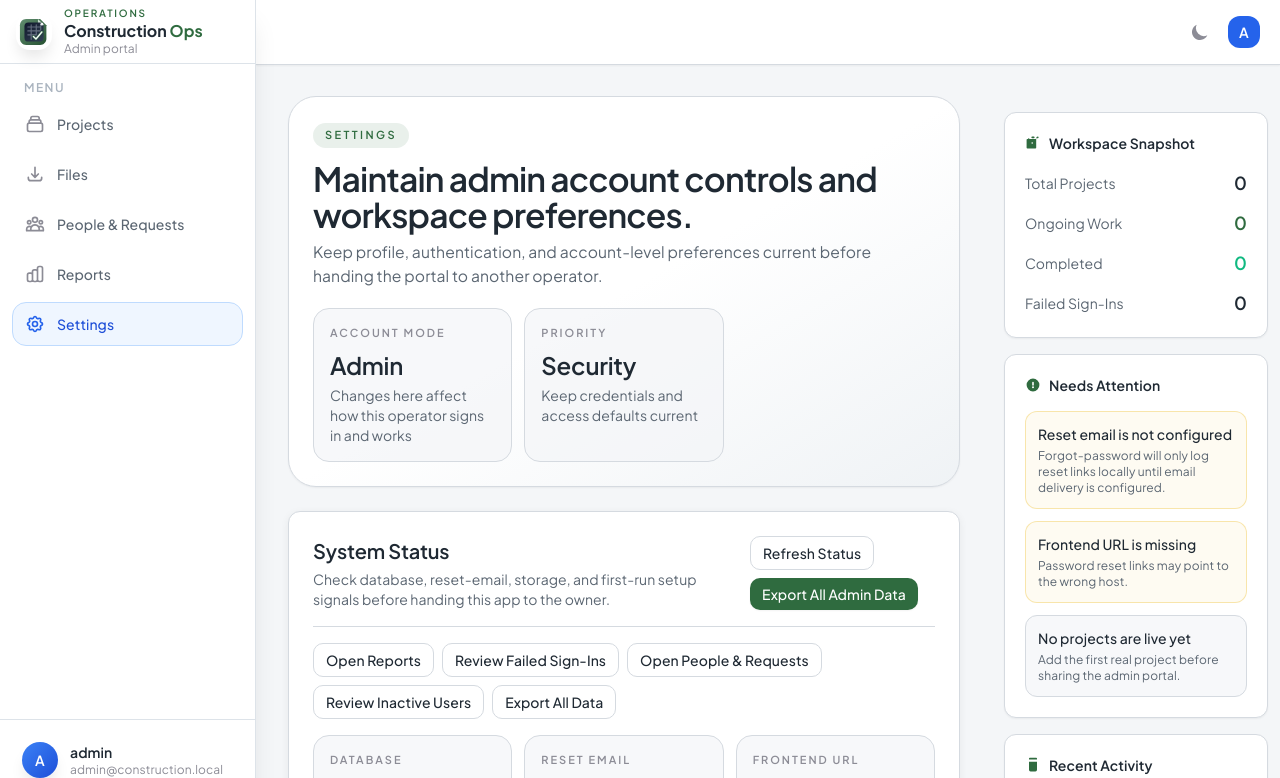
Test: AdminDashboard route shell › settings route deep-links to inactive users
The width and height of the screenshot is (1280, 778).
Expected: the heading "System Status" is shown, [313,538,449,563]
Click the button "Review Inactive Users" at {"x": 399, "y": 702}, box [313,685,484,719]
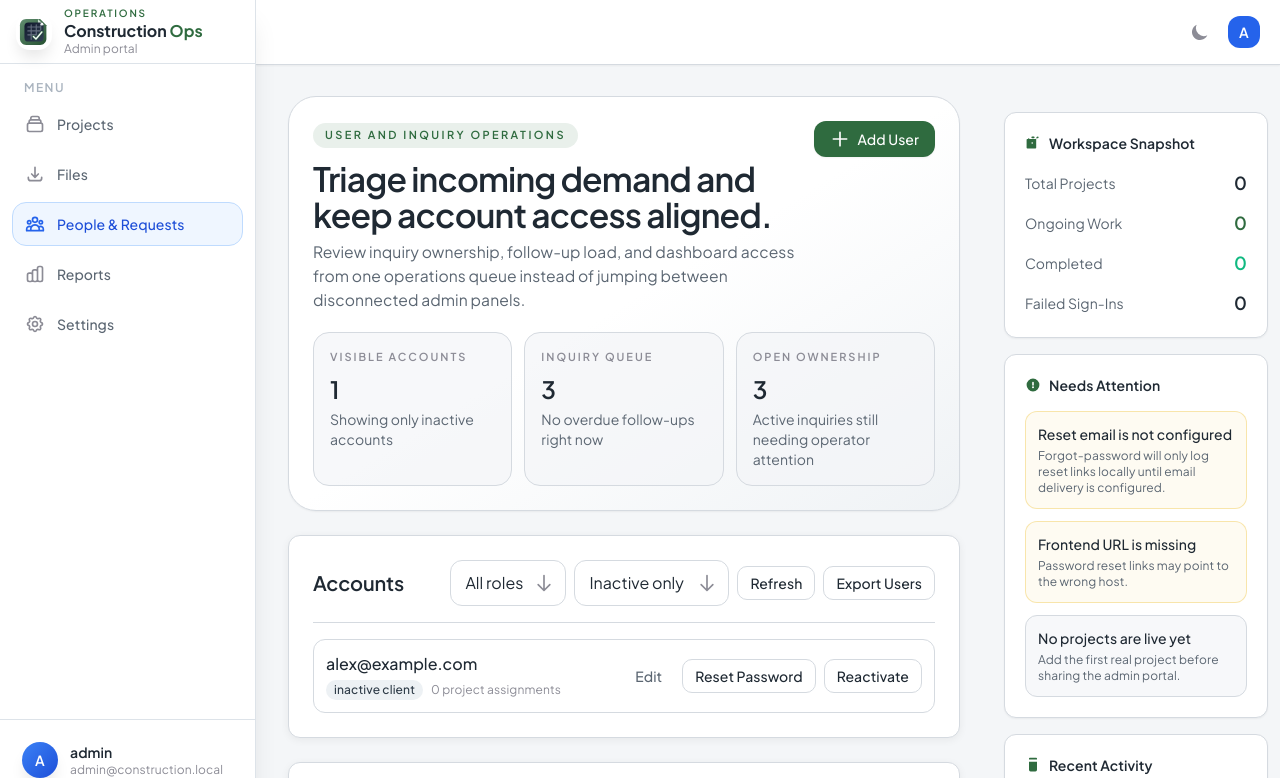
Expected: the text "alex@example.com" is shown, [326,653,477,674]
